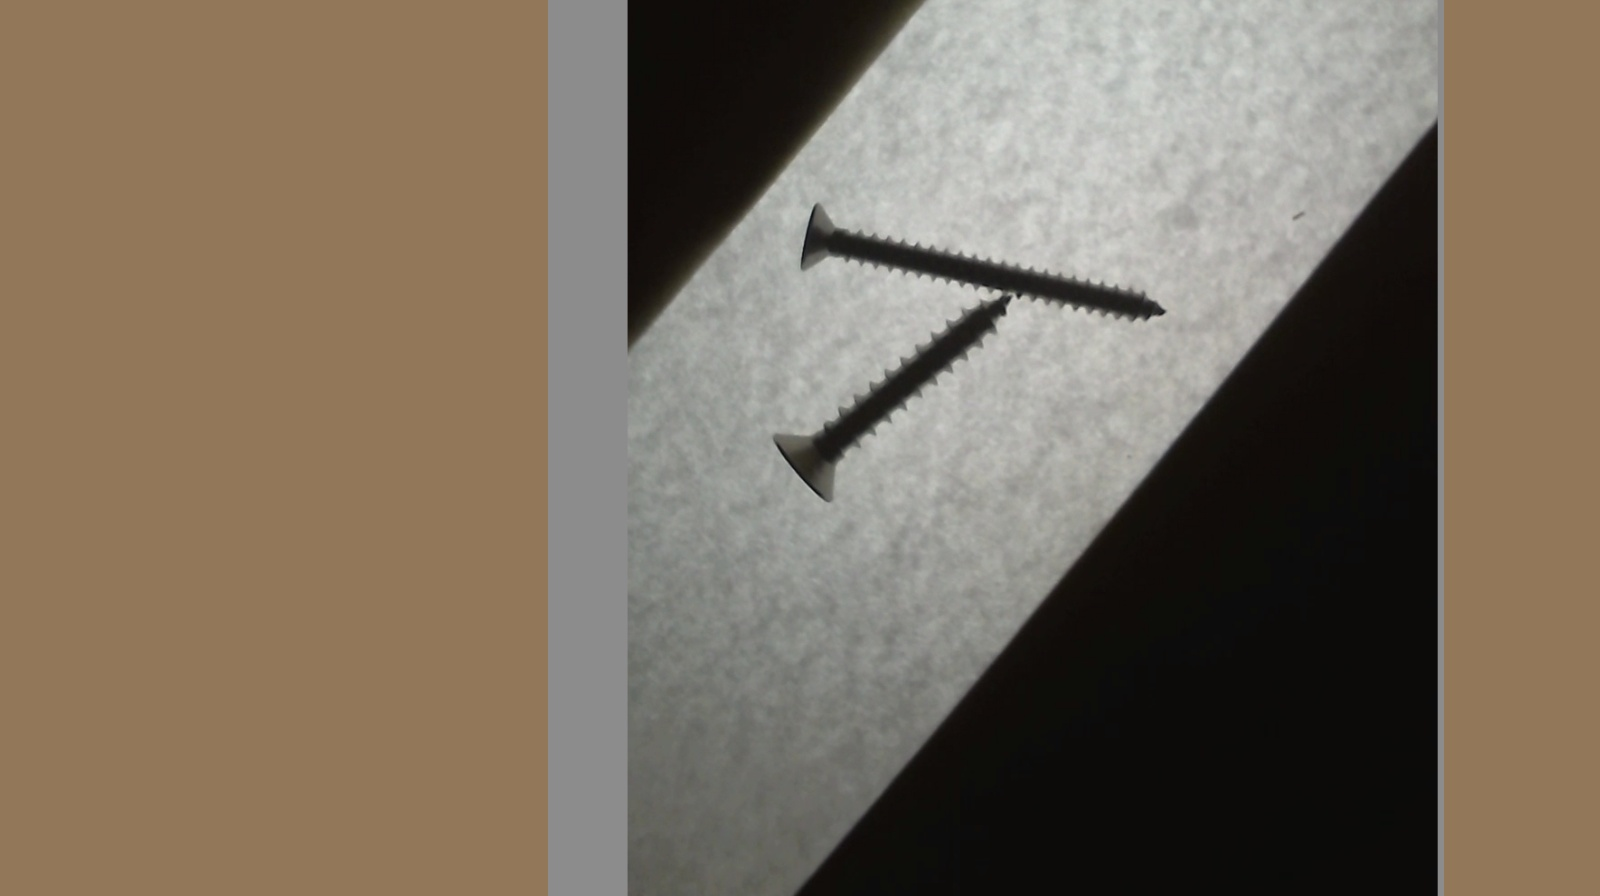S001: (765, 284, 1022, 506)
S002: (797, 199, 1174, 332)
